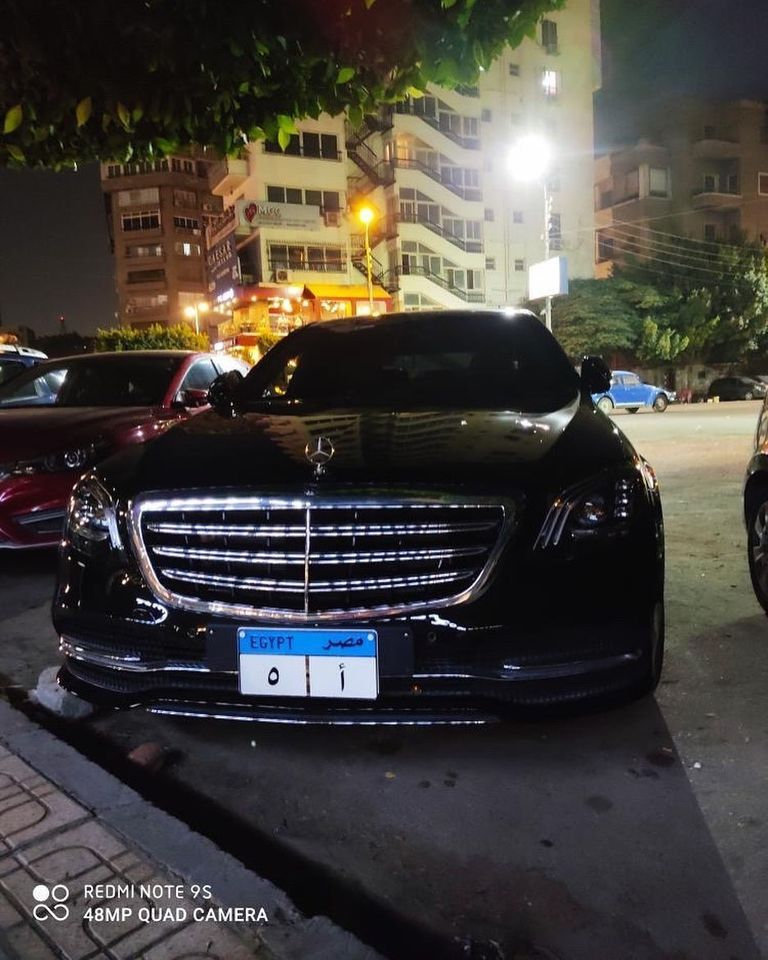carpl: (238, 650, 372, 698)
